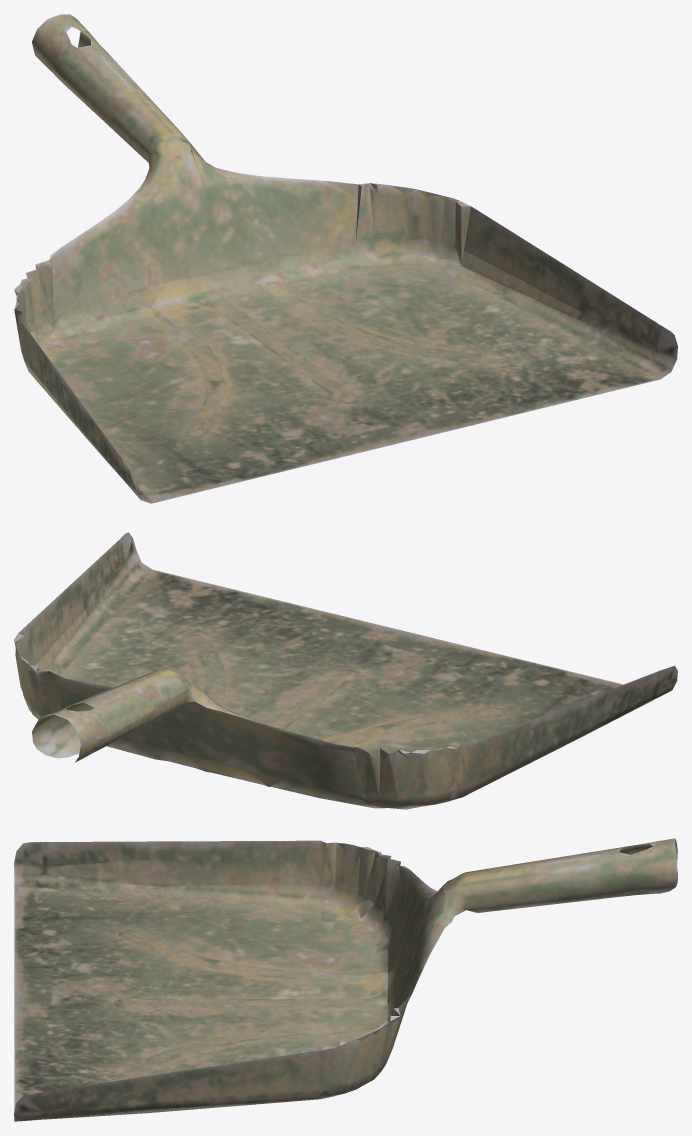
Rendered from dustpan.glb.
3 renders of one model, top to bottom at view 1: azimuth 30°, elevation 25°; view 2: azimuth 150°, elevation 25°; view 3: azimuth 270°, elevation 25°, orthographic. The views are drawn at different scales.
Parts seen in each view (by area): view 1: mesh; view 2: mesh; view 3: mesh.
Boxes of the visible parts, x1,y1,x2,y2 form: mesh: (14,14,677,503); mesh: (14,532,677,809); mesh: (14,838,677,1121).
Size of the model in its own units: 0.3346 by 0.1003 by 0.3719.
1 material, 1 textured.
